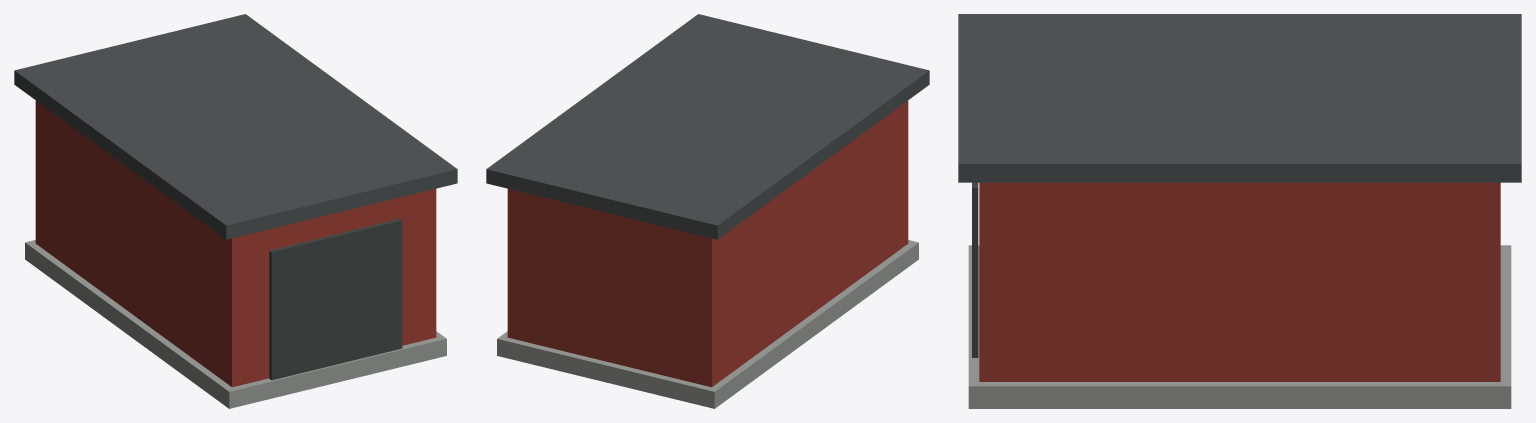
File: norway-boathouse_lod0.glb
3 renders of one model, left to right at view 1: azimuth 30°, elevation 25°; view 2: azimuth 150°, elevation 25°; view 3: azimuth 270°, elevation 25°, orthographic. The views are drawn at different scales.
Parts seen in each view (by area): view 1: RF_Boathouse_Roof, RF_Boathouse_Walls, RF_Boathouse_Door, RF_Boathouse_Foundation; view 2: RF_Boathouse_Walls, RF_Boathouse_Roof, RF_Boathouse_Foundation; view 3: RF_Boathouse_Walls, RF_Boathouse_Roof, RF_Boathouse_Foundation, RF_Boathouse_Door.
Part boxes in pixels (box(x1,y1,x2,y2)): RF_Boathouse_Roof: box(14, 14, 457, 239); RF_Boathouse_Walls: box(35, 100, 436, 387); RF_Boathouse_Door: box(269, 218, 402, 380); RF_Boathouse_Foundation: box(25, 240, 446, 408); RF_Boathouse_Walls: box(507, 100, 908, 387); RF_Boathouse_Roof: box(486, 14, 929, 239); RF_Boathouse_Foundation: box(497, 240, 918, 408); RF_Boathouse_Walls: box(979, 182, 1500, 381); RF_Boathouse_Roof: box(958, 14, 1521, 182); RF_Boathouse_Foundation: box(968, 245, 1511, 408); RF_Boathouse_Door: box(972, 182, 978, 357).
Size of the model in its own units: 8.5 by 6.6 by 13.5.
